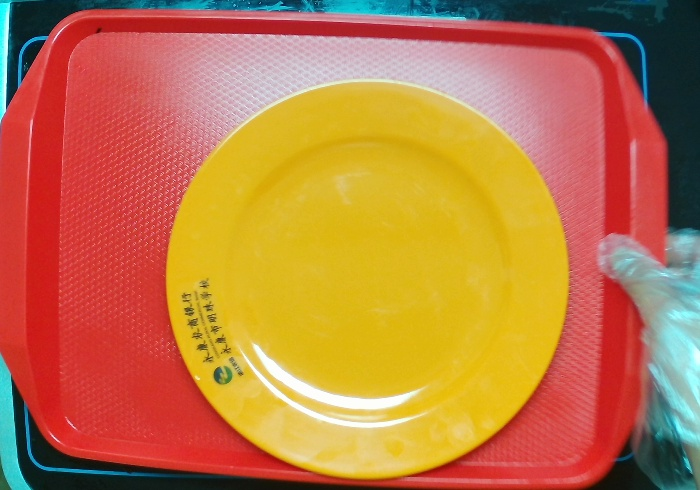YKMZ-Ju_Se_Mian_Pan: (164, 77, 571, 481)
